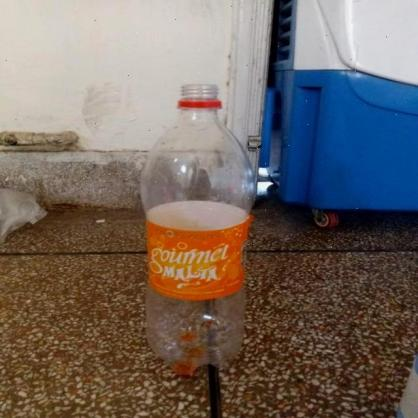bottle: (127, 74, 259, 379)
label: (145, 206, 254, 298)
